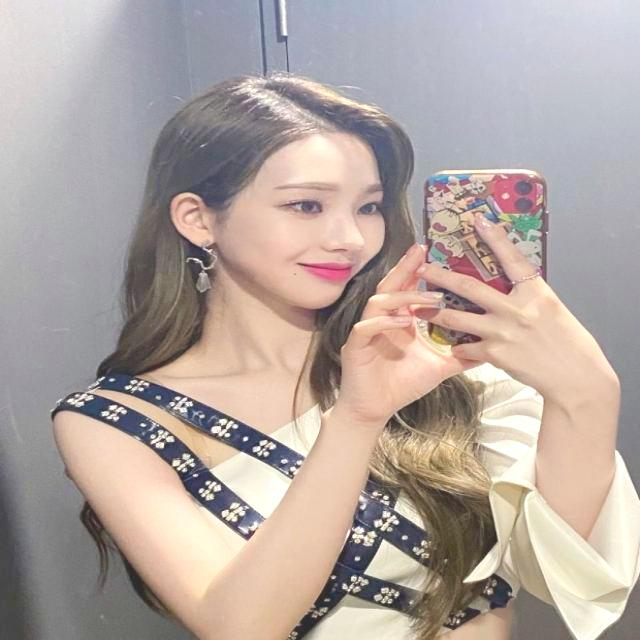lens: (496, 176, 540, 213)
phone: (418, 163, 550, 349)
